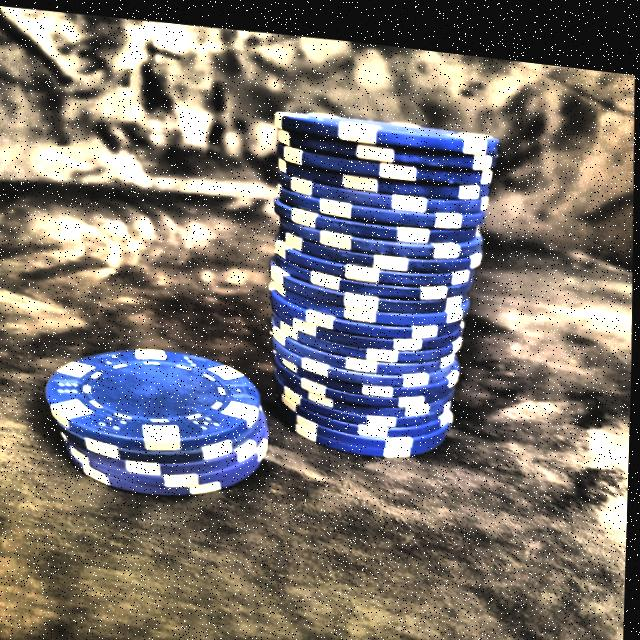Chip: (254, 81, 506, 459), (39, 308, 280, 517)
